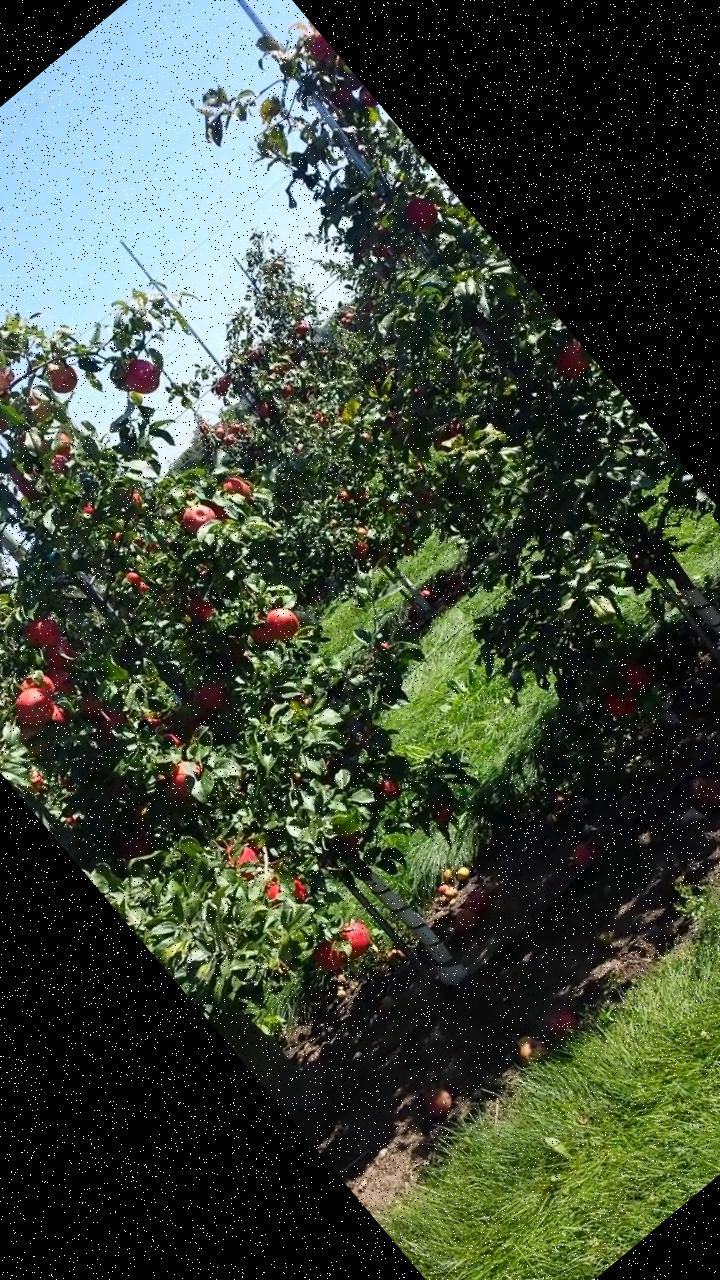Apple: (7, 679, 62, 734), (116, 349, 170, 404), (163, 752, 214, 803), (260, 597, 308, 646), (221, 834, 268, 884), (190, 673, 237, 720), (332, 916, 380, 962), (399, 190, 445, 237), (550, 338, 596, 385), (14, 666, 60, 711), (14, 712, 59, 758), (602, 681, 648, 726), (21, 614, 66, 659), (38, 354, 82, 399), (16, 384, 59, 427), (310, 936, 352, 978), (175, 496, 218, 537), (427, 418, 470, 459), (39, 635, 81, 676), (326, 72, 368, 112), (218, 468, 258, 509), (92, 700, 132, 740), (368, 768, 408, 808), (332, 823, 370, 863), (43, 661, 81, 700), (126, 828, 165, 866), (182, 587, 220, 625), (300, 29, 337, 68), (624, 658, 661, 695), (130, 708, 167, 744), (48, 427, 84, 463), (42, 702, 78, 736), (76, 689, 110, 723), (154, 726, 187, 758), (284, 874, 314, 906), (16, 477, 46, 508), (251, 622, 280, 652), (45, 448, 73, 476), (260, 876, 288, 902), (0, 361, 17, 403), (354, 85, 379, 112), (4, 459, 28, 486), (124, 488, 148, 512), (122, 568, 144, 590), (108, 528, 129, 548), (80, 500, 99, 520), (0, 404, 10, 440), (134, 580, 150, 594)
